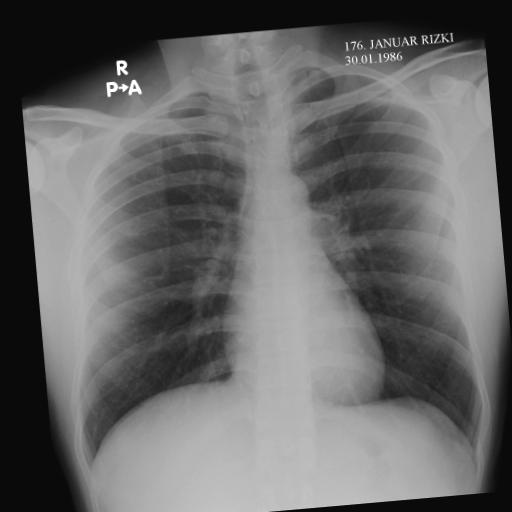normal: (40, 50, 500, 500)
